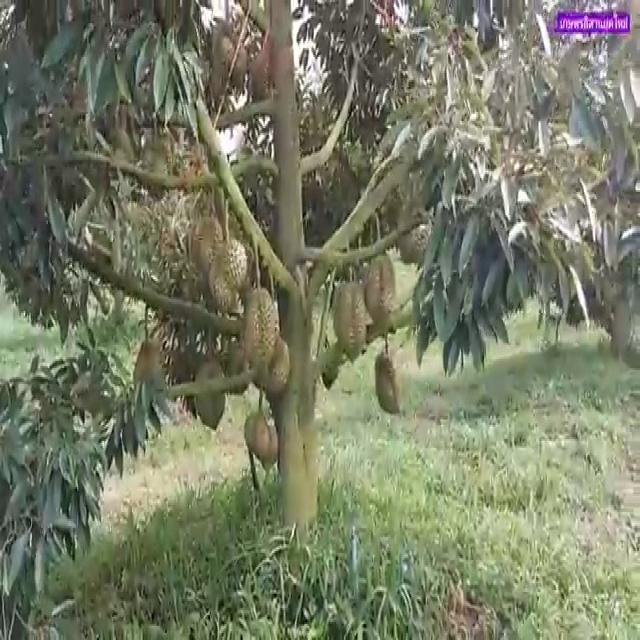durian: (238, 282, 280, 378), (330, 276, 370, 366), (206, 234, 246, 317), (363, 244, 398, 338), (190, 357, 229, 431), (186, 213, 226, 280), (140, 133, 174, 204), (132, 339, 166, 408), (371, 347, 403, 417), (242, 408, 272, 464)
